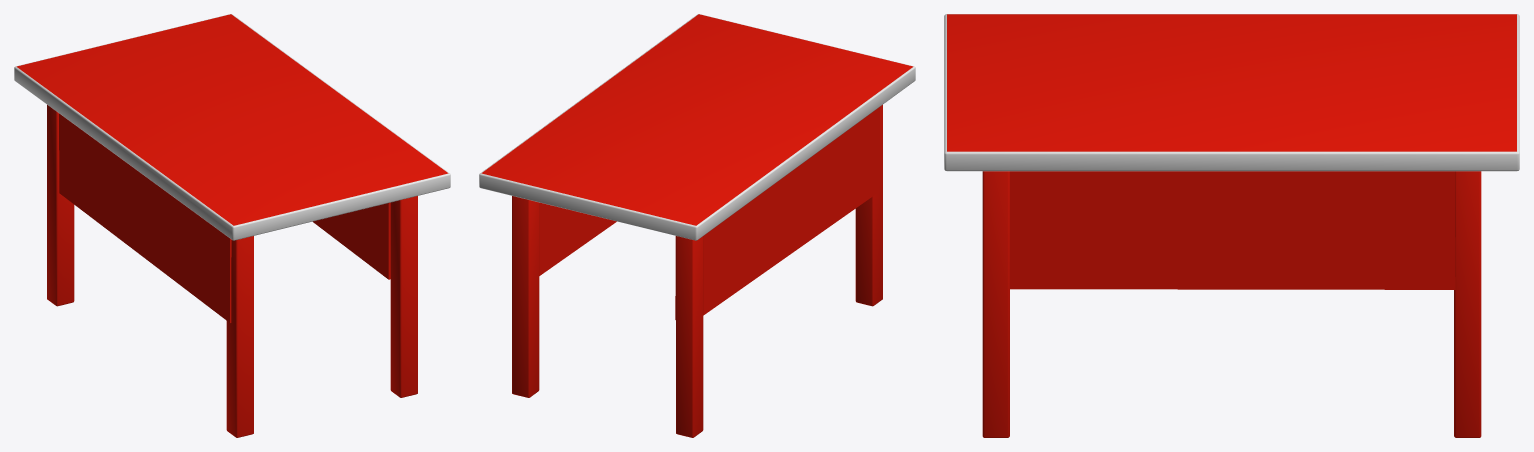
The model's file is table4.fbx.
3 views of the same model, side by side, from view 1: azimuth 30°, elevation 25°; view 2: azimuth 150°, elevation 25°; view 3: azimuth 270°, elevation 25° (orthographic). The views are drawn at different scales.
Visible parts, largest first — view 1: Cube, Cube.001, Cube.003, Cube.002; view 2: Cube, Cube.003, Cube.001, Cube.002; view 3: Cube, Cube.002, Cube.001.
Boxes of the visible parts, x1,y1,x2,y2 form: Cube: (14, 14, 450, 240); Cube.001: (47, 105, 417, 437); Cube.003: (59, 113, 231, 322); Cube.002: (313, 202, 390, 279); Cube: (479, 14, 915, 240); Cube.003: (675, 107, 880, 319); Cube.001: (512, 105, 882, 437); Cube.002: (539, 202, 616, 275); Cube: (944, 14, 1519, 171); Cube.002: (1010, 171, 1455, 289); Cube.001: (982, 171, 1481, 437).
Bounding box in the file's own units: 462 × 459 × 806.
